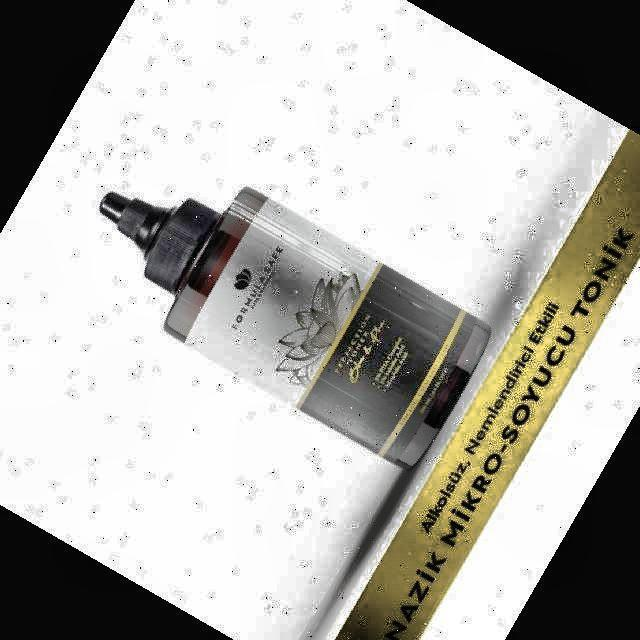plastic: (100, 189, 490, 468)
